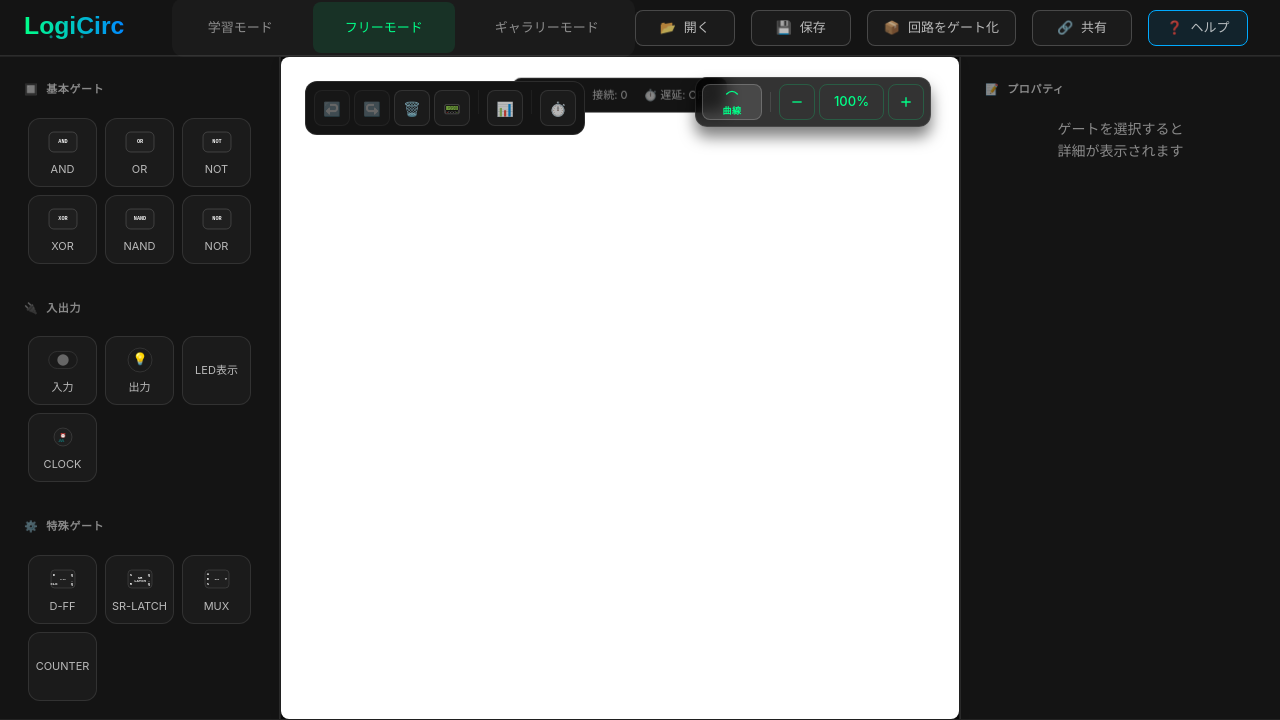
Test: 回路共有機能 › 空の回路では共有できないことを確認
The image size is (1280, 720).
# 共有ボタンをクリック
Click the button "🔗 共有" at (1082, 28), box left=1032, top=10, right=1132, bottom=46
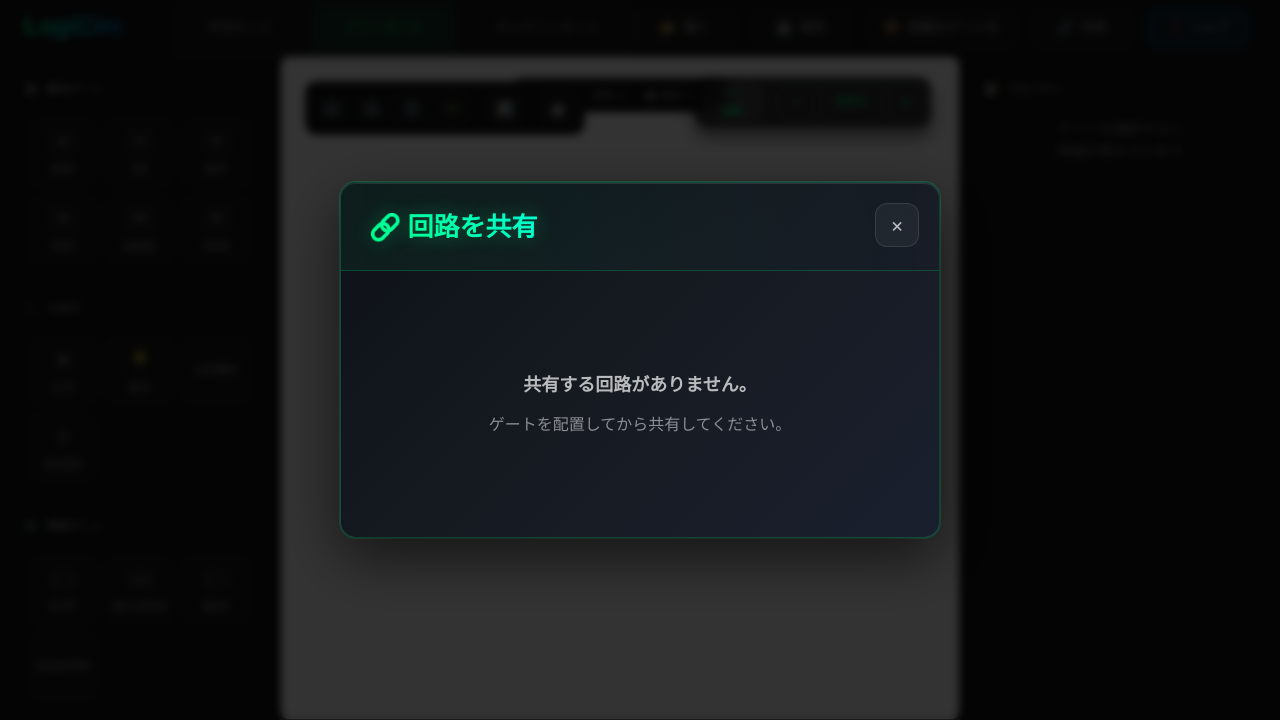
Now the element with class "empty-circuit-message" that starts with "共有する回路がありません。" is shown, box left=489, top=374, right=792, bottom=434
Now the text "共有する回路がありません。" is shown, box left=523, top=374, right=757, bottom=395
